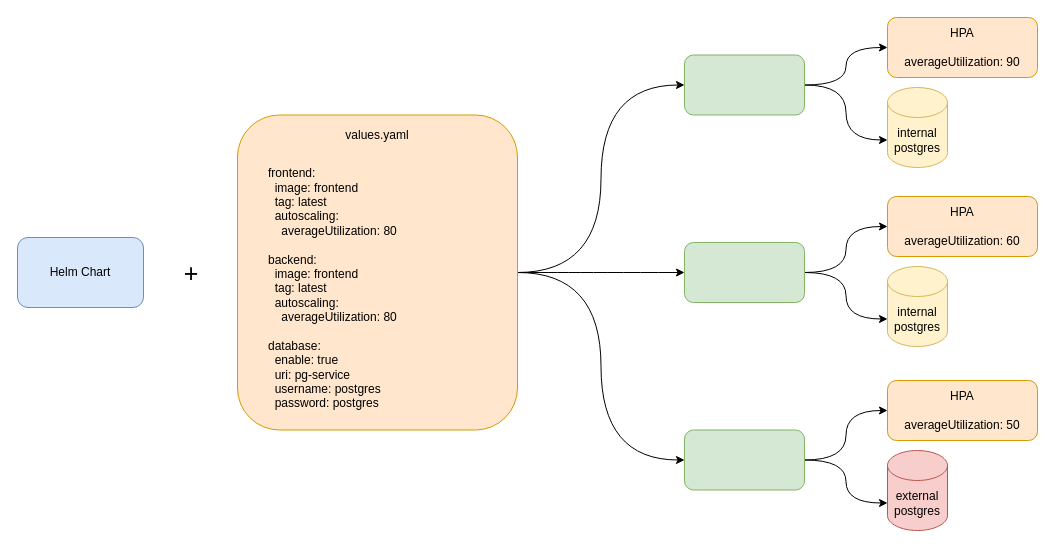
This 1055x548 diagram has some shape labels left out. The centre of each missing label's shape, as x and y in pixels:
"Dev" goes at point 744,84.
"Prod" goes at point 744,459.
"Staging" goes at point 744,272.
